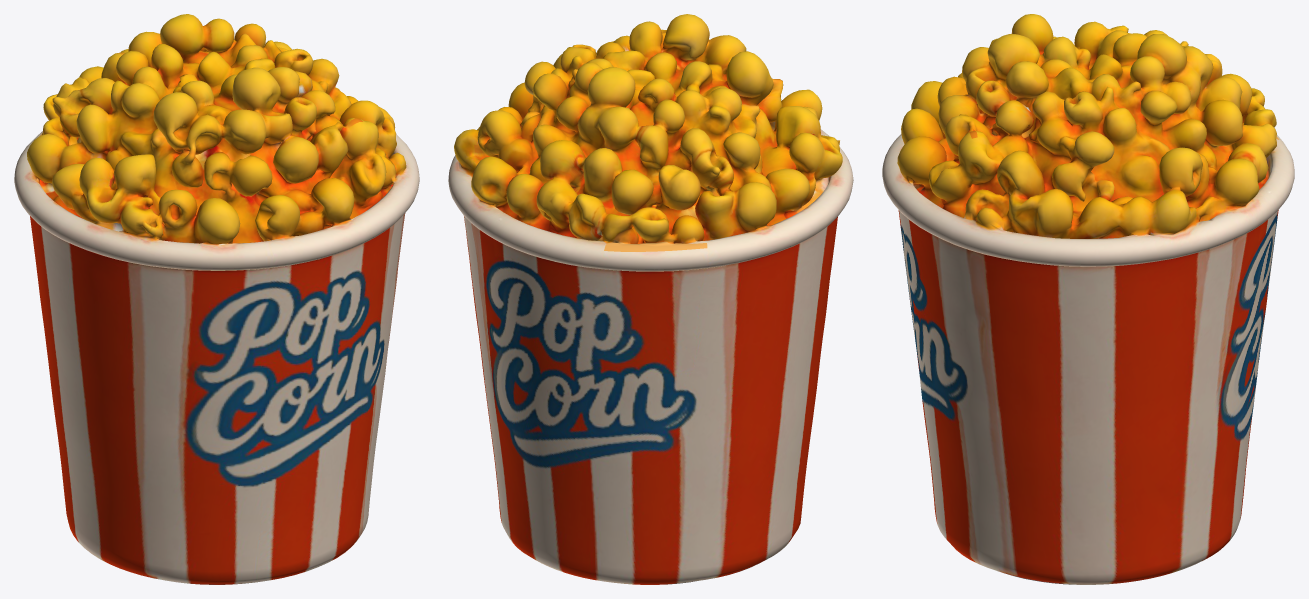
Rendered from misir.glb.
3 renders of one model, left to right at view 1: azimuth 30°, elevation 25°; view 2: azimuth 150°, elevation 25°; view 3: azimuth 270°, elevation 25°, orthographic.
Visible parts, largest first — view 1: 1________POPCORN______; view 2: 1________POPCORN______; view 3: 1________POPCORN______.
Boxes of the visible parts, <box> form: 1________POPCORN______: <box>14,14,419,584</box>; 1________POPCORN______: <box>448,14,853,584</box>; 1________POPCORN______: <box>882,14,1294,584</box>.
Size of the model in its own units: 0.1333 by 0.1786 by 0.1335.
Materials: 1 (1 with a texture image).
